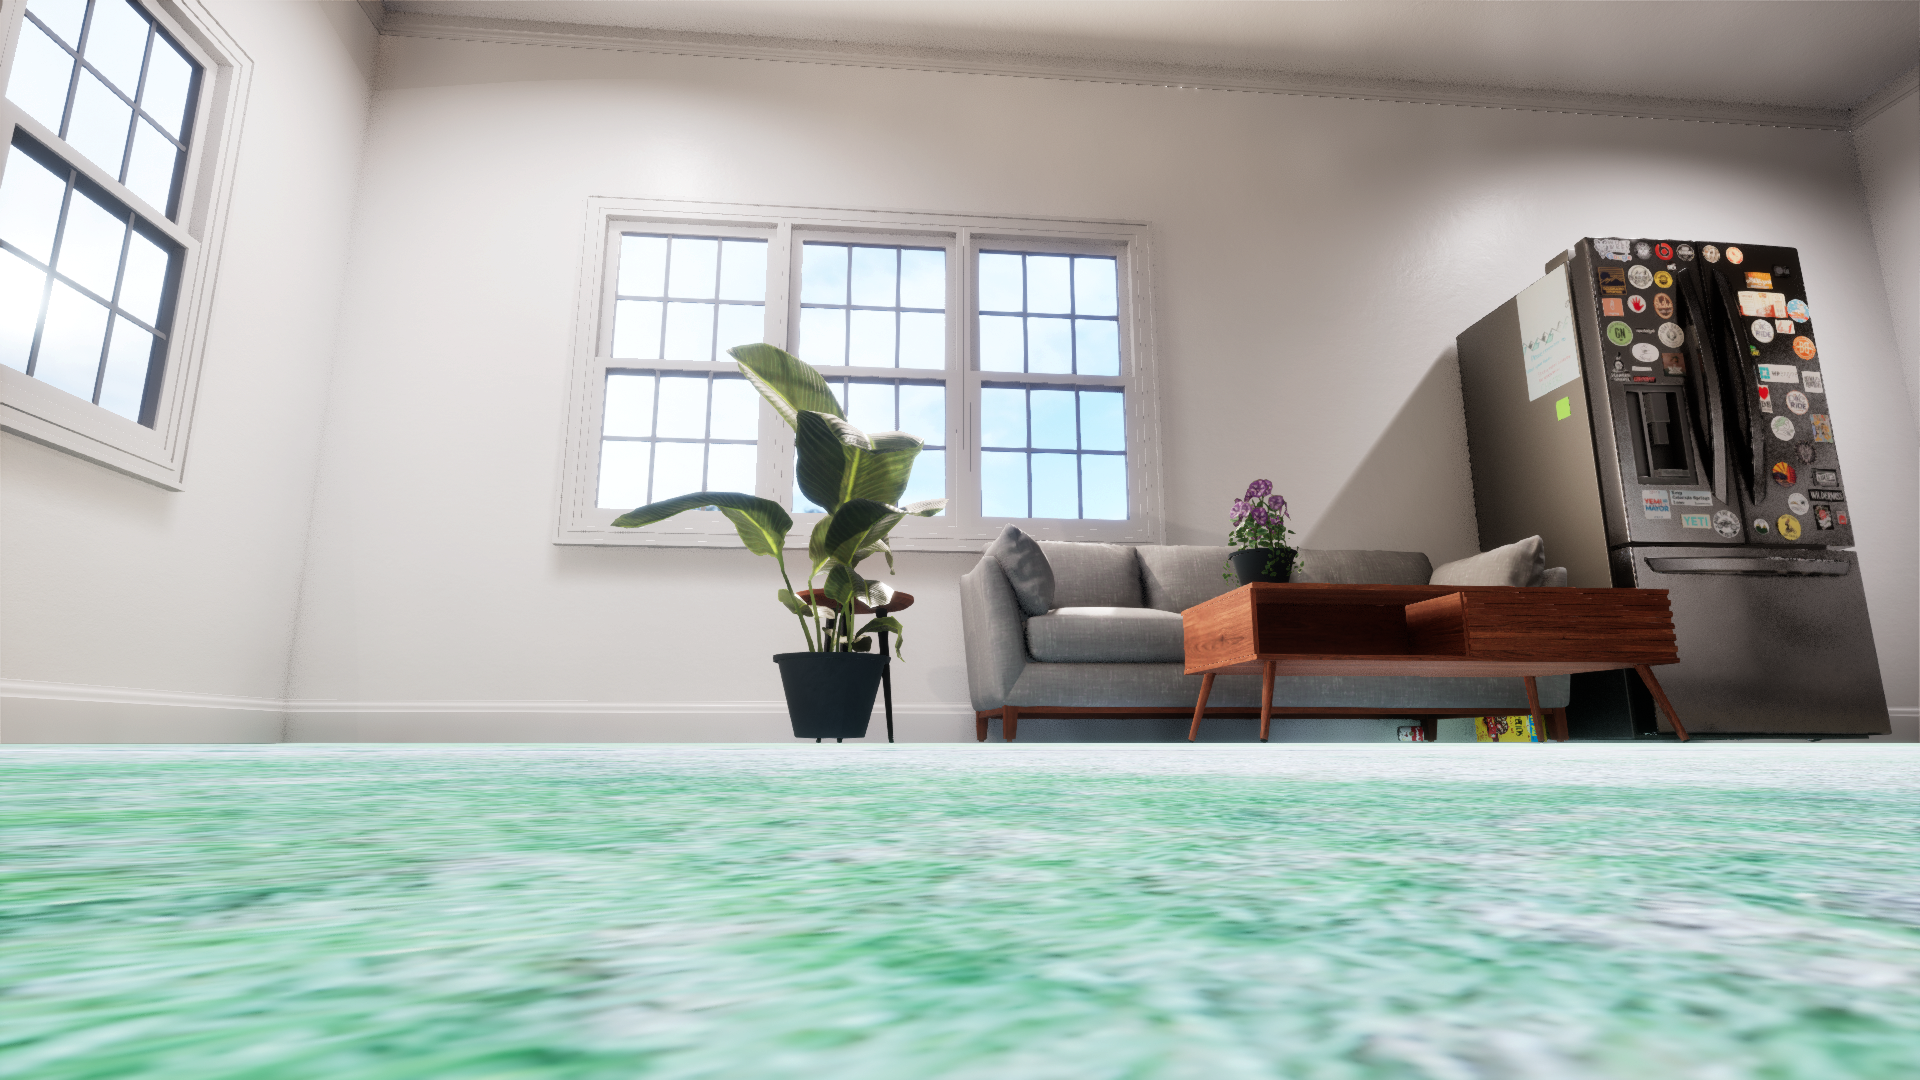cheerios: (1476, 715, 1547, 742)
soup: (1396, 727, 1424, 742)
